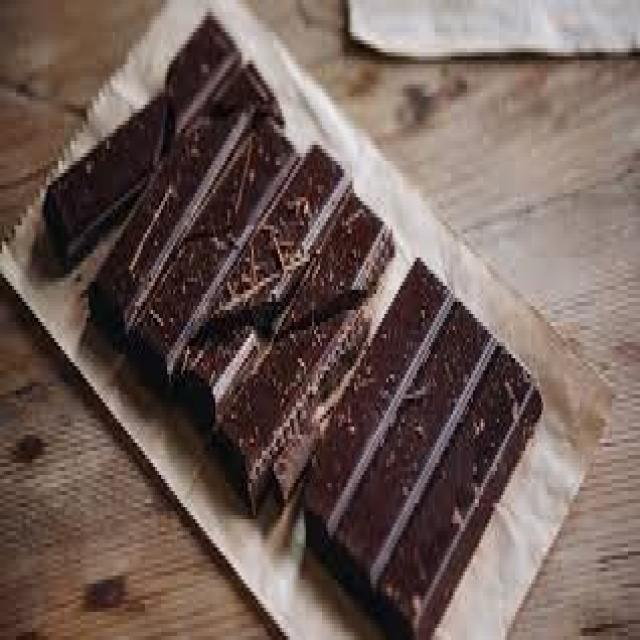Chocolate: (46, 10, 544, 640)
